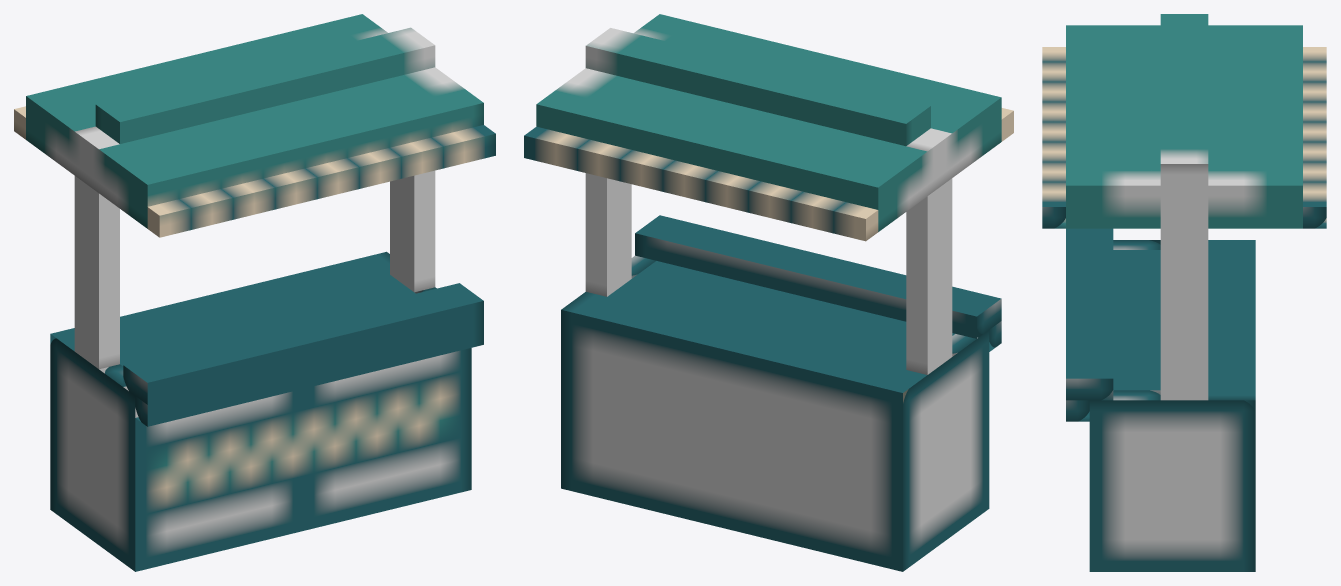
File: stoisko.dae
3 renders of one model, left to right at view 1: azimuth 30°, elevation 25°; view 2: azimuth 150°, elevation 25°; view 3: azimuth 270°, elevation 25°, orthographic. The views are drawn at different scales.
Visible parts, largest first — view 1: stoisko; view 2: stoisko; view 3: stoisko.
Boxes of the visible parts, x1,y1,x2,y2 form: stoisko: [14, 14, 495, 571]; stoisko: [524, 14, 1013, 571]; stoisko: [1042, 14, 1326, 571].
Size of the model in its own units: 16 by 19 by 12.
Materials: 1 (1 with a texture image).
